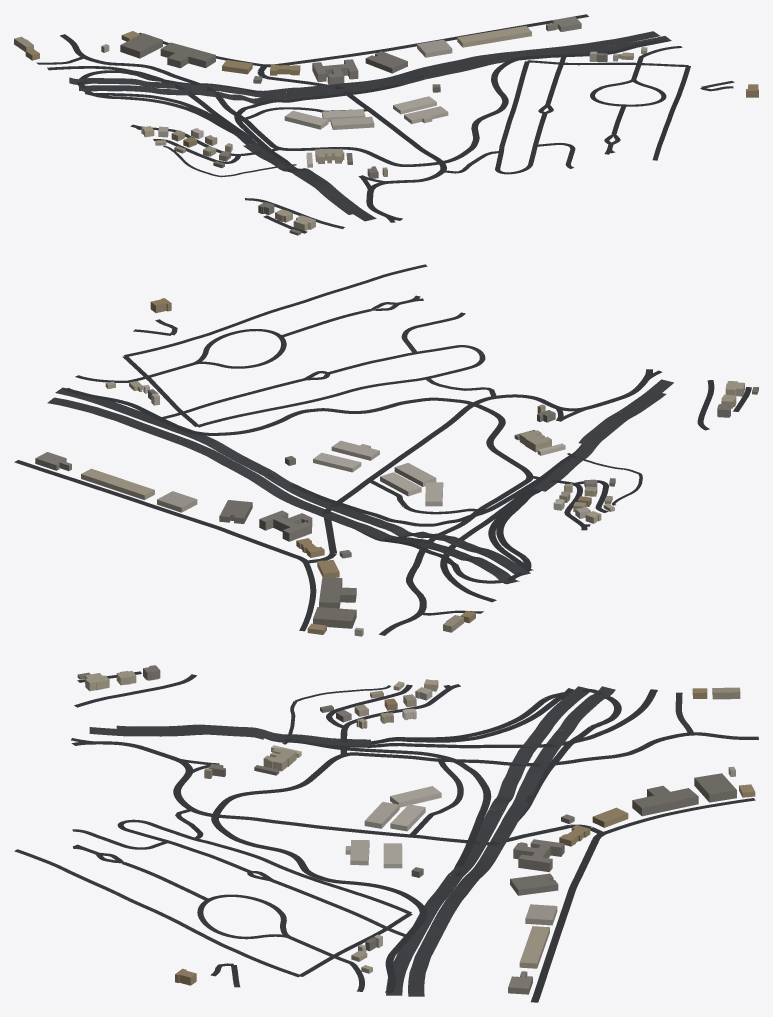
The model's file is tile_6_9.glb.
The picture shows the model from 3 angles, top to bottom: view 1: azimuth 30°, elevation 25°; view 2: azimuth 150°, elevation 25°; view 3: azimuth 270°, elevation 25°; orthographic projection. The views are drawn at different scales.
Parts seen in each view (by area): view 1: road_6_9, bld_6_9; view 2: road_6_9, bld_6_9; view 3: road_6_9, bld_6_9.
Boxes of the visible parts, x1,y1,x2,y2 form: road_6_9: (36,14,734,233); bld_6_9: (14,16,758,235); road_6_9: (14,264,751,635); bld_6_9: (35,298,758,636); road_6_9: (14,671,758,1002); bld_6_9: (77,665,755,994).
Bounding box in the file's own units: 816 × 83.92 × 870.
